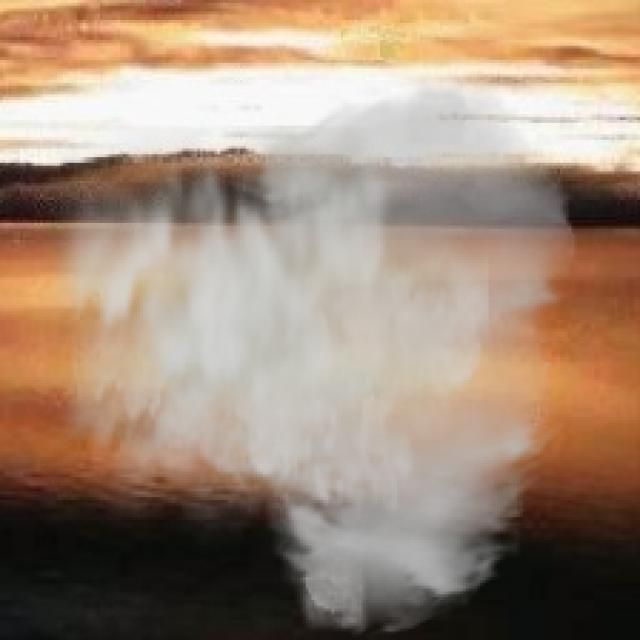Smoke: (26, 72, 583, 638)
